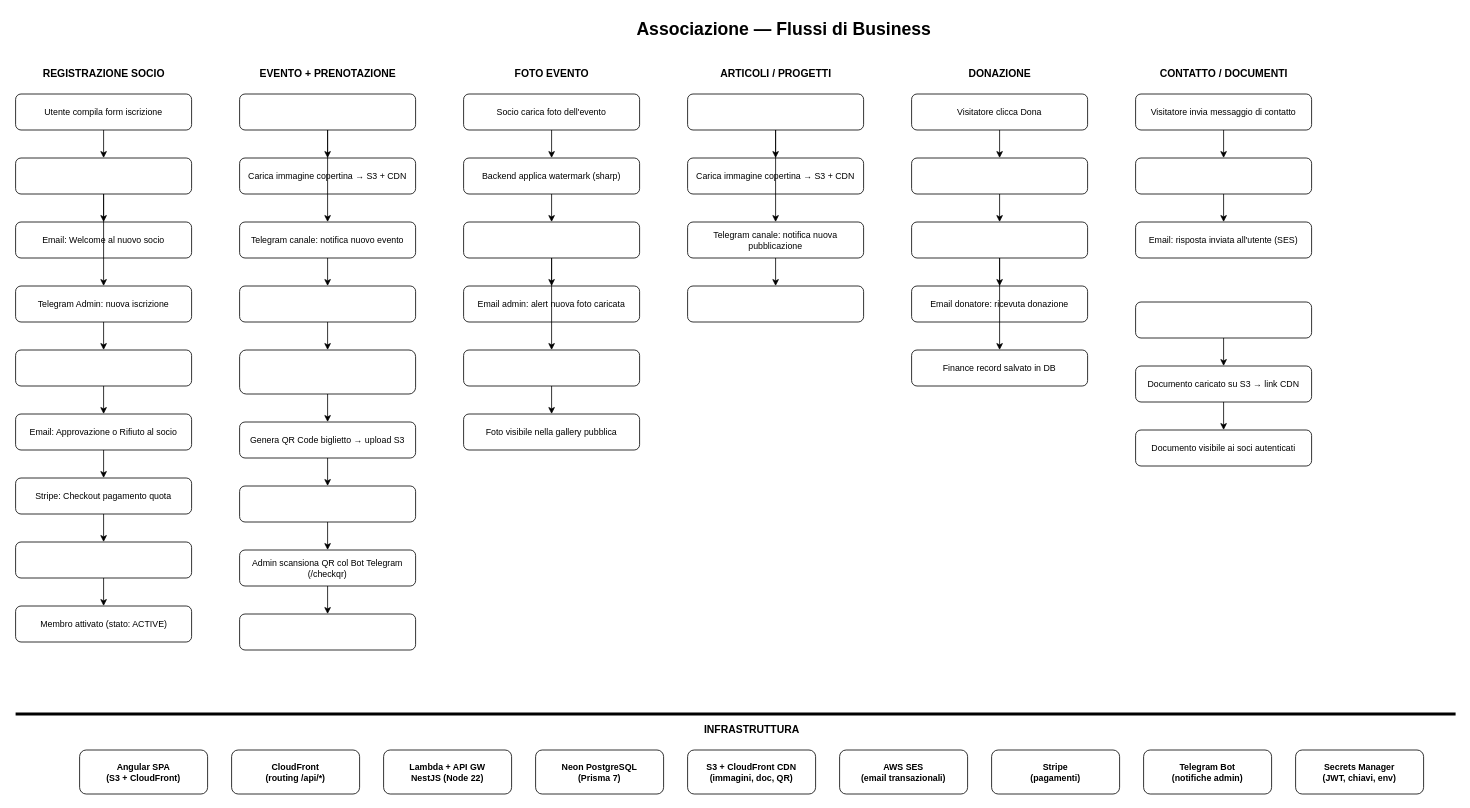
The diagram is 1470 pixels wide and 808 high, and some of its shapes have lost their labels. Each missing label, with the centre of its shape:
"Admin approva / rifiuta da gestionale" belongs at pixel 103 367.
"Admin carica documento (statuto, verbali…)" belongs at pixel 1223 319.
"Admin crea evento (titolo, data, posti, prezzo)" belongs at pixel 327 111.
"Admin pubblica articolo o progetto" belongs at pixel 775 111.
"Admin riceve email + risponde dal gestionale" belongs at pixel 1223 175.
"Articolo / progetto visibile sul sito pubblico" belongs at pixel 775 303.
"Backend crea membro (stato: PENDING)" belongs at pixel 103 175.
"Bot risponde: nome, validità biglietto, check-in OK" belongs at pixel 327 631.
"Email socio: ringraziamento foto" belongs at pixel 551 367.
"Email: conferma prenotazione con QR" belongs at pixel 327 503.
"Posto disponibile? ↓ SÌ → confermato ↓ NO → waitlist" belongs at pixel 327 371.
"Stripe Checkout (una tantum / ricorrente)" belongs at pixel 999 175.
"Upload foto su S3 → URL CDN pubblica" belongs at pixel 551 239.
"Utente prenota posto (BookingsService)" belongs at pixel 327 303.
"Webhook Stripe: checkout.session.completed" belongs at pixel 999 239.
"Webhook Stripe: pagamento OK" belongs at pixel 103 559.
